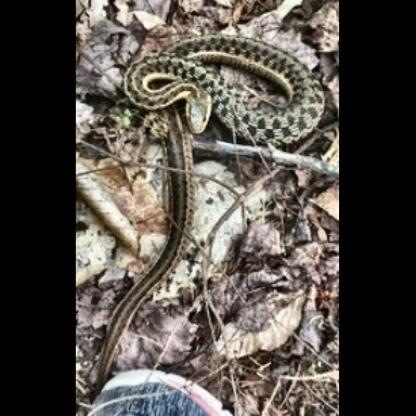Snake: (123, 32, 336, 147)
